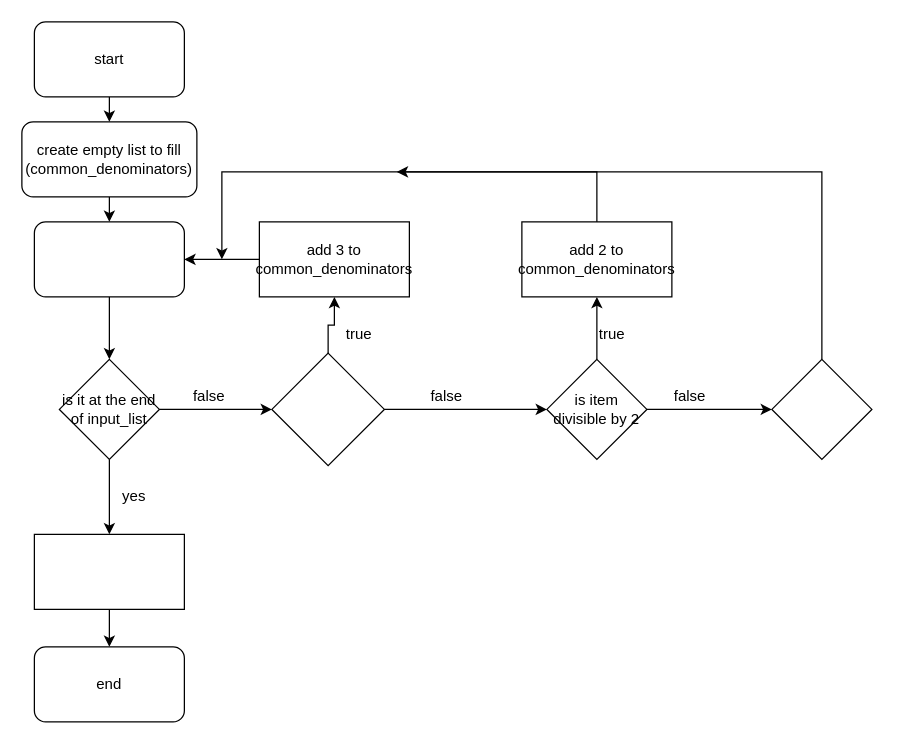
The diagram is 921 pixels wide and 744 high, and some of its shapes have lost their labels. Here are the shapes that lost their labels. From the top down, the centre of each, then its label:
At (x=108, y=259): "iterate to next item in input_list".
At (x=327, y=409): "if item is divisible by 3".
At (x=821, y=408): "otherwise add value 0 to common_denominators".
At (x=108, y=571): "return the list common_denominators".
